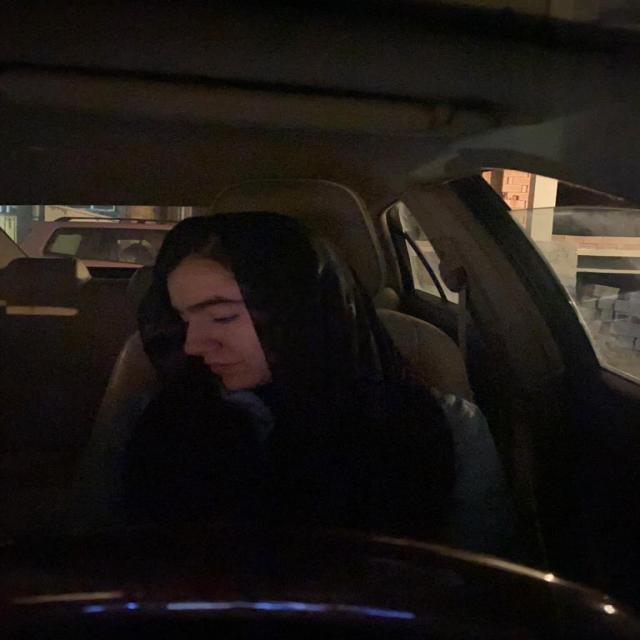drowsy: (148, 232, 312, 401)
